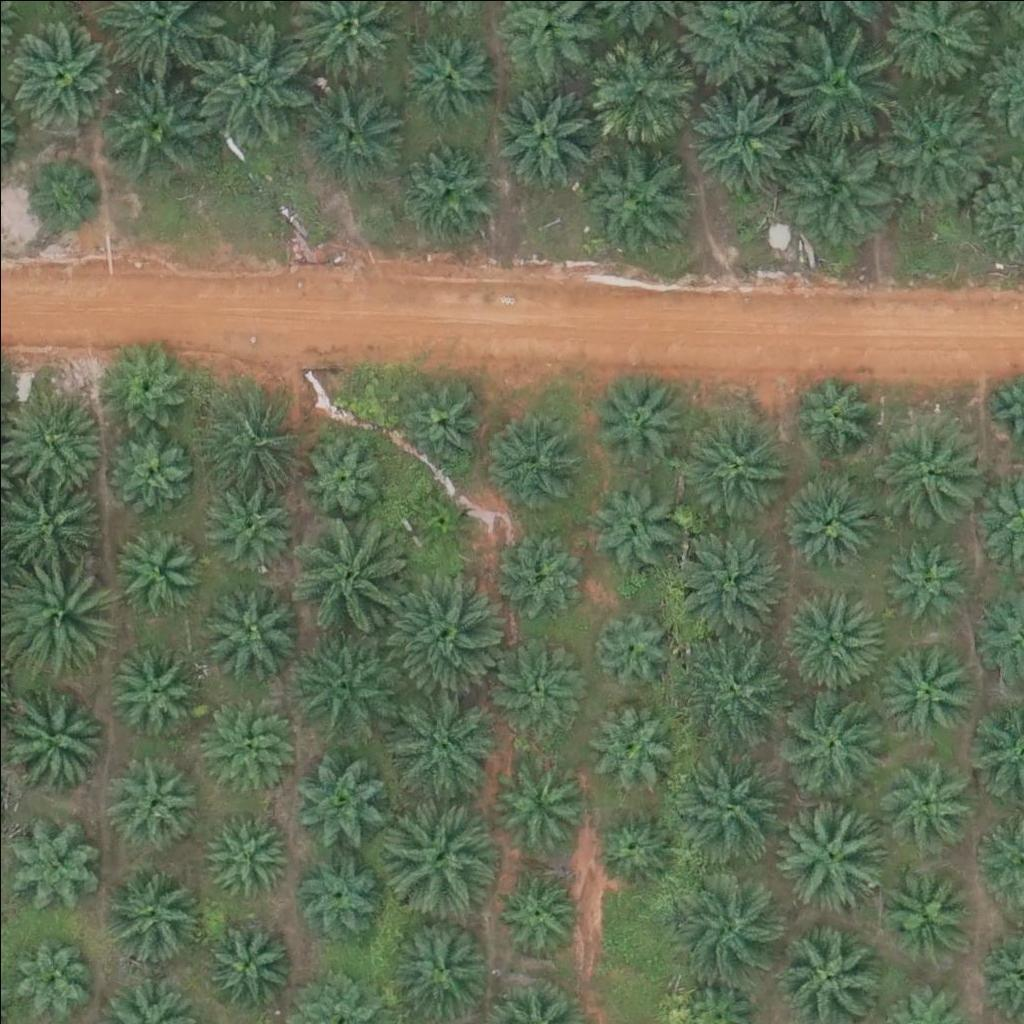Kelapa_Sawit: (580, 143, 693, 257), (682, 79, 795, 193), (291, 520, 404, 634), (668, 748, 781, 862), (196, 25, 309, 138), (584, 30, 697, 143), (776, 29, 889, 142), (192, 382, 305, 495), (382, 807, 495, 920), (778, 793, 891, 906), (293, 74, 405, 188), (873, 90, 985, 204), (681, 407, 793, 521), (3, 18, 115, 131), (97, 69, 209, 182), (779, 128, 891, 241), (289, 628, 401, 741), (384, 686, 496, 799), (387, 575, 499, 688), (666, 870, 778, 983), (678, 630, 790, 743), (670, 518, 782, 631), (776, 686, 888, 799), (866, 412, 978, 525), (398, 138, 498, 239), (495, 80, 595, 181), (6, 686, 106, 787), (4, 818, 104, 919), (193, 686, 293, 787), (197, 476, 297, 577), (290, 425, 390, 526), (295, 745, 395, 846), (389, 918, 489, 1019), (482, 407, 582, 508), (588, 363, 688, 464), (777, 472, 877, 573), (874, 864, 974, 965), (872, 747, 972, 848), (876, 636, 976, 737), (397, 25, 497, 125), (99, 857, 199, 957), (95, 331, 195, 431), (197, 568, 297, 668), (778, 590, 878, 690), (109, 646, 197, 734), (116, 522, 204, 610), (112, 430, 200, 518), (204, 923, 292, 1011), (203, 810, 291, 898), (493, 645, 581, 733), (584, 694, 672, 782), (588, 600, 676, 688), (788, 362, 876, 450), (397, 378, 484, 467), (493, 863, 580, 952), (877, 533, 964, 622), (10, 934, 97, 1022), (108, 758, 195, 846), (292, 851, 379, 939), (489, 749, 576, 837), (496, 529, 583, 617), (590, 797, 677, 885), (589, 483, 676, 571), (21, 153, 96, 228), (405, 486, 468, 549)
